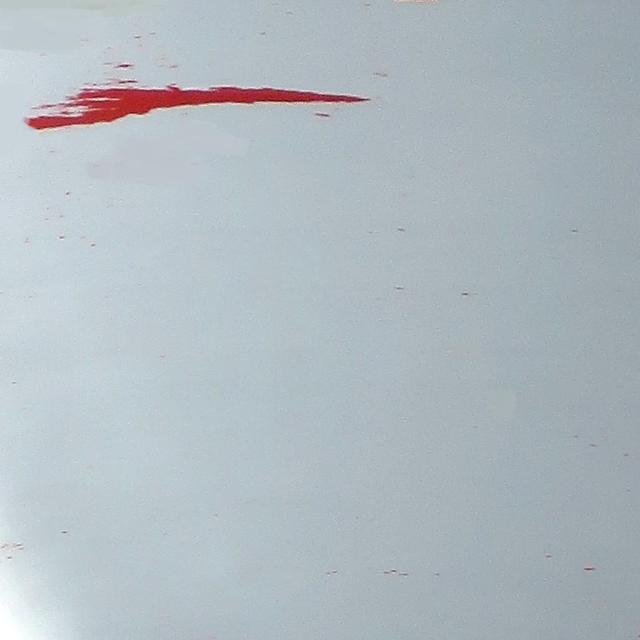corrosion: (26, 80, 385, 133)
